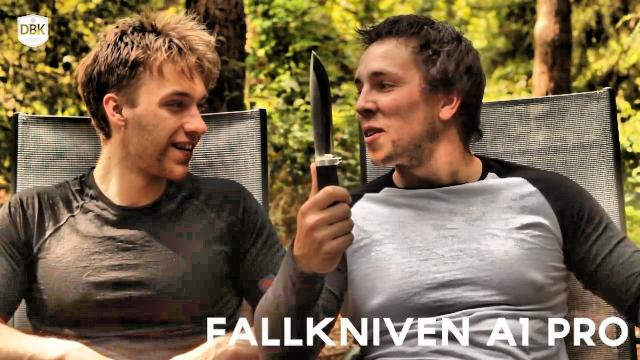knife: (299, 44, 359, 244)
